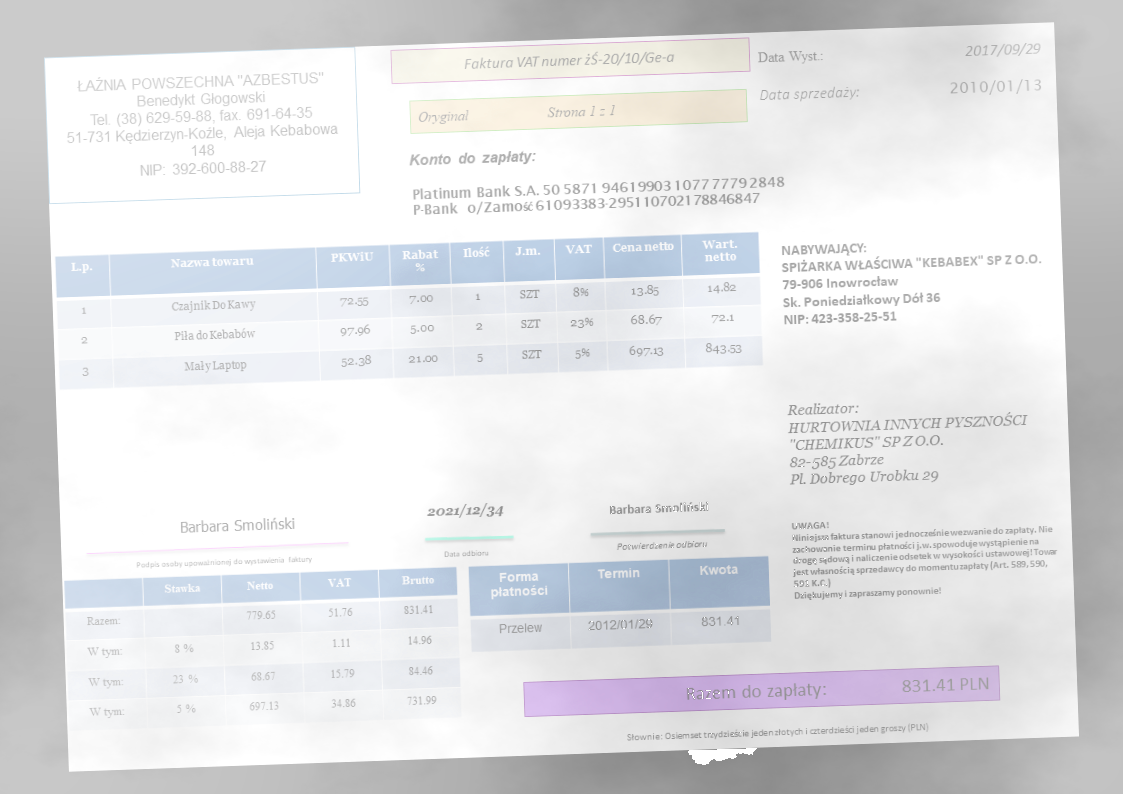Table: (54, 231, 764, 391), (63, 565, 463, 731), (467, 554, 773, 654)
TextBox: (62, 65, 342, 182), (779, 234, 1046, 328), (790, 511, 1061, 603), (785, 392, 1032, 488), (410, 172, 789, 219), (683, 673, 992, 705), (623, 720, 932, 746), (415, 101, 619, 127), (461, 48, 677, 72), (134, 552, 315, 571), (407, 146, 539, 171), (178, 513, 297, 536), (756, 83, 861, 105), (948, 76, 1042, 99), (606, 499, 711, 517), (425, 500, 506, 523), (962, 39, 1042, 60), (755, 47, 824, 68), (614, 538, 708, 553), (442, 547, 490, 559)
